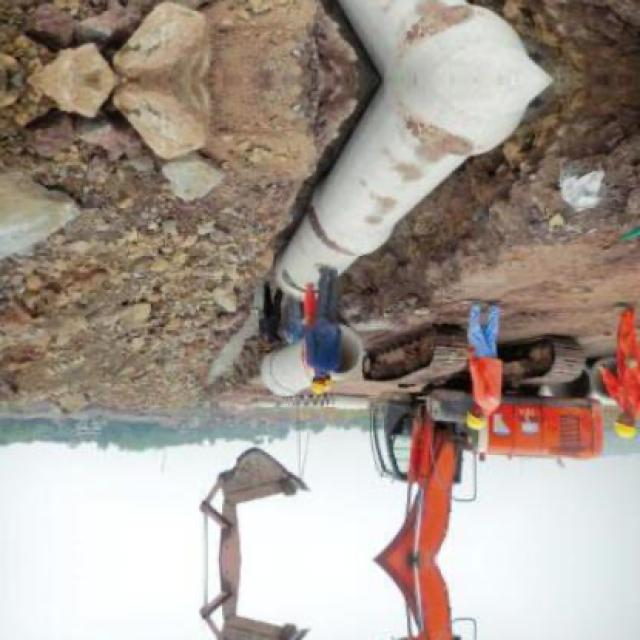con casco: (449, 403, 510, 441), (295, 364, 331, 422), (600, 407, 640, 454)
